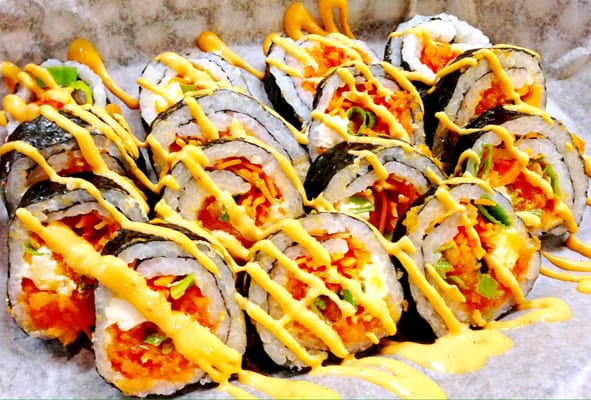soup: (6, 164, 246, 393)
